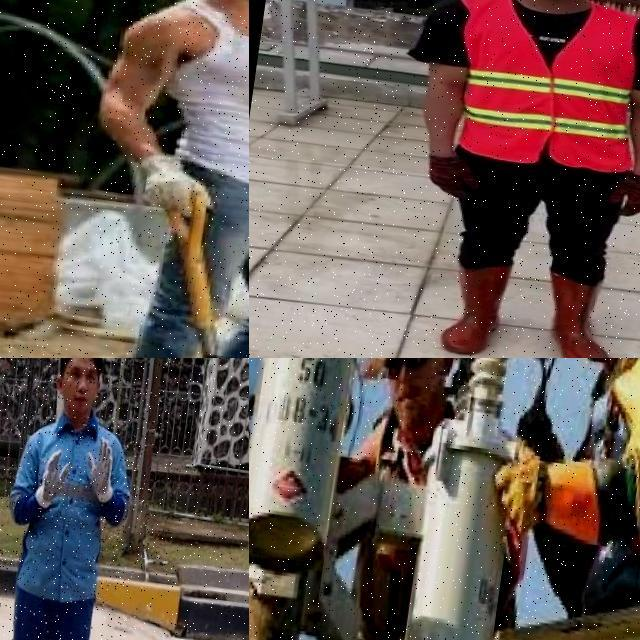boots: (433, 256, 512, 358), (541, 272, 619, 358)
vest: (443, 0, 640, 177), (550, 358, 640, 609)
